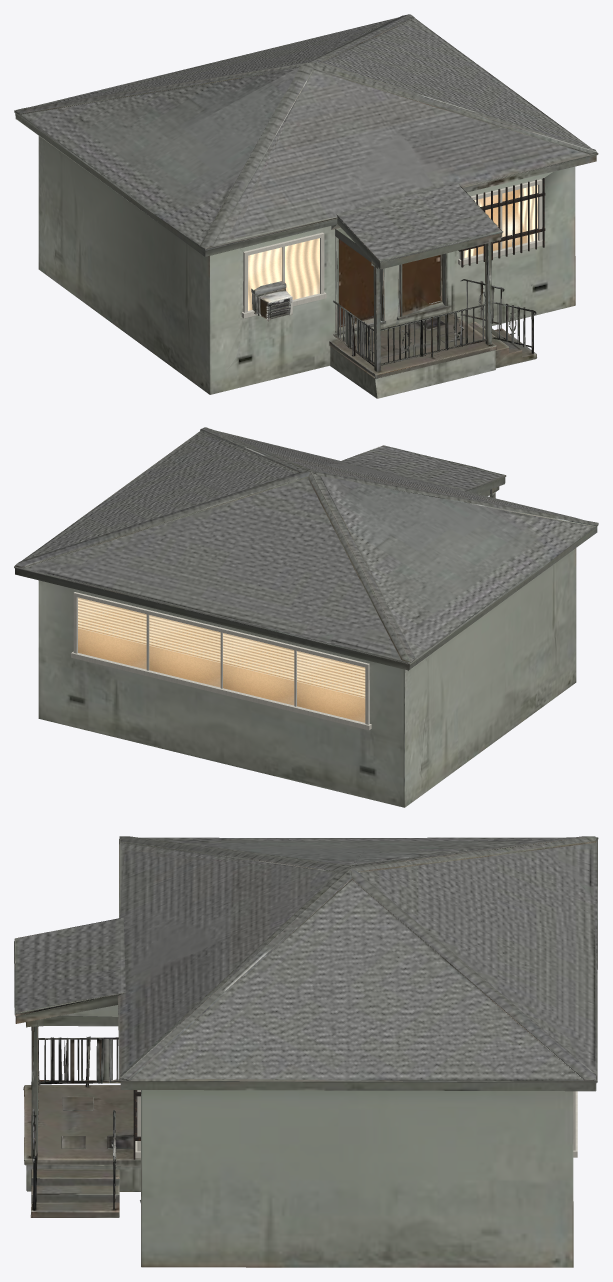
File: house-03-duplex.glb
3 views of the same model, one above another, from view 1: azimuth 30°, elevation 25°; view 2: azimuth 150°, elevation 25°; view 3: azimuth 270°, elevation 25° (orthographic). The views are drawn at different scales.
Visible parts, largest first — view 1: Mesh_0; view 2: Mesh_0; view 3: Mesh_0.
Part boxes in pixels (x1,y1,x2,y2): Mesh_0: (14, 14, 598, 398); Mesh_0: (14, 427, 598, 807); Mesh_0: (14, 836, 598, 1267).
Bounding box in the file's own units: 7.26 × 4 × 7.36.
Materials: 4 (4 with a texture image).
